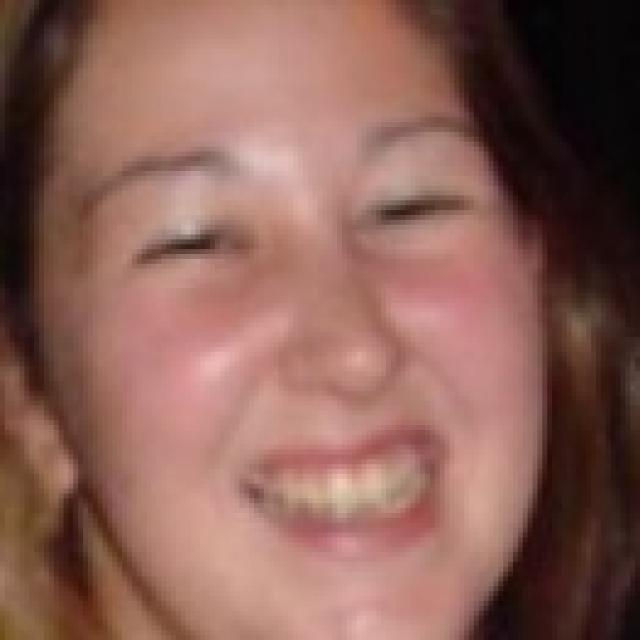Eyeclosed: (362, 177, 465, 240), (139, 218, 245, 276)
